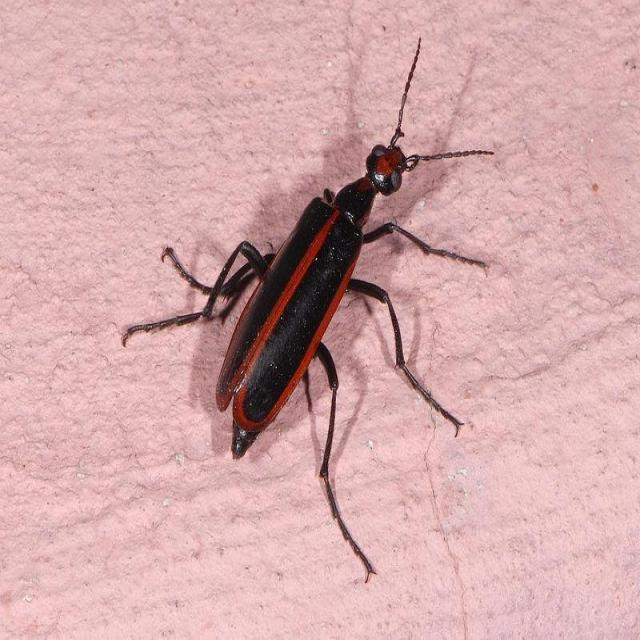BlisterBeetle-Adult-: (184, 20, 486, 533)
